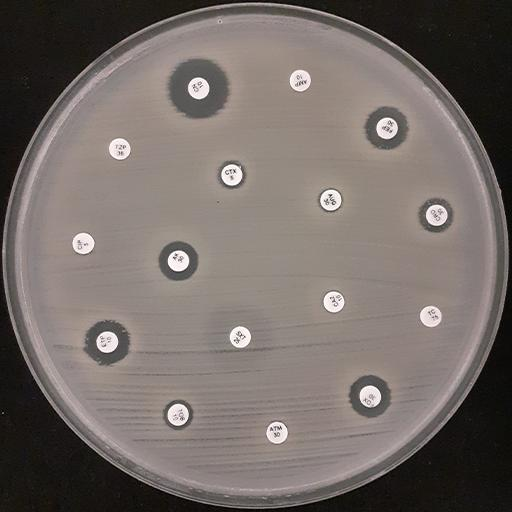disc: (166, 402, 190, 428), (358, 384, 382, 408), (167, 249, 190, 273), (95, 330, 119, 353), (108, 138, 131, 161), (376, 117, 399, 140), (319, 188, 342, 211), (72, 232, 95, 255), (425, 204, 449, 226), (187, 78, 210, 100), (220, 164, 243, 186), (419, 305, 442, 327), (266, 421, 288, 444), (229, 326, 251, 348), (323, 291, 345, 313), (290, 69, 311, 92)
